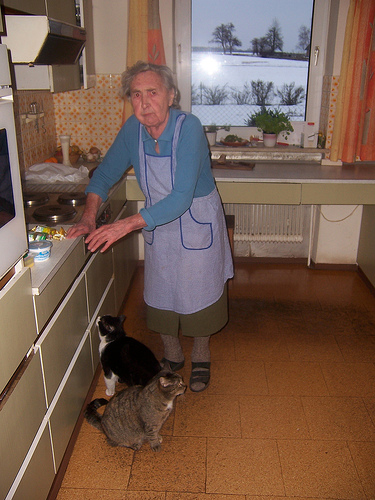without_mask: (127, 68, 177, 127)
